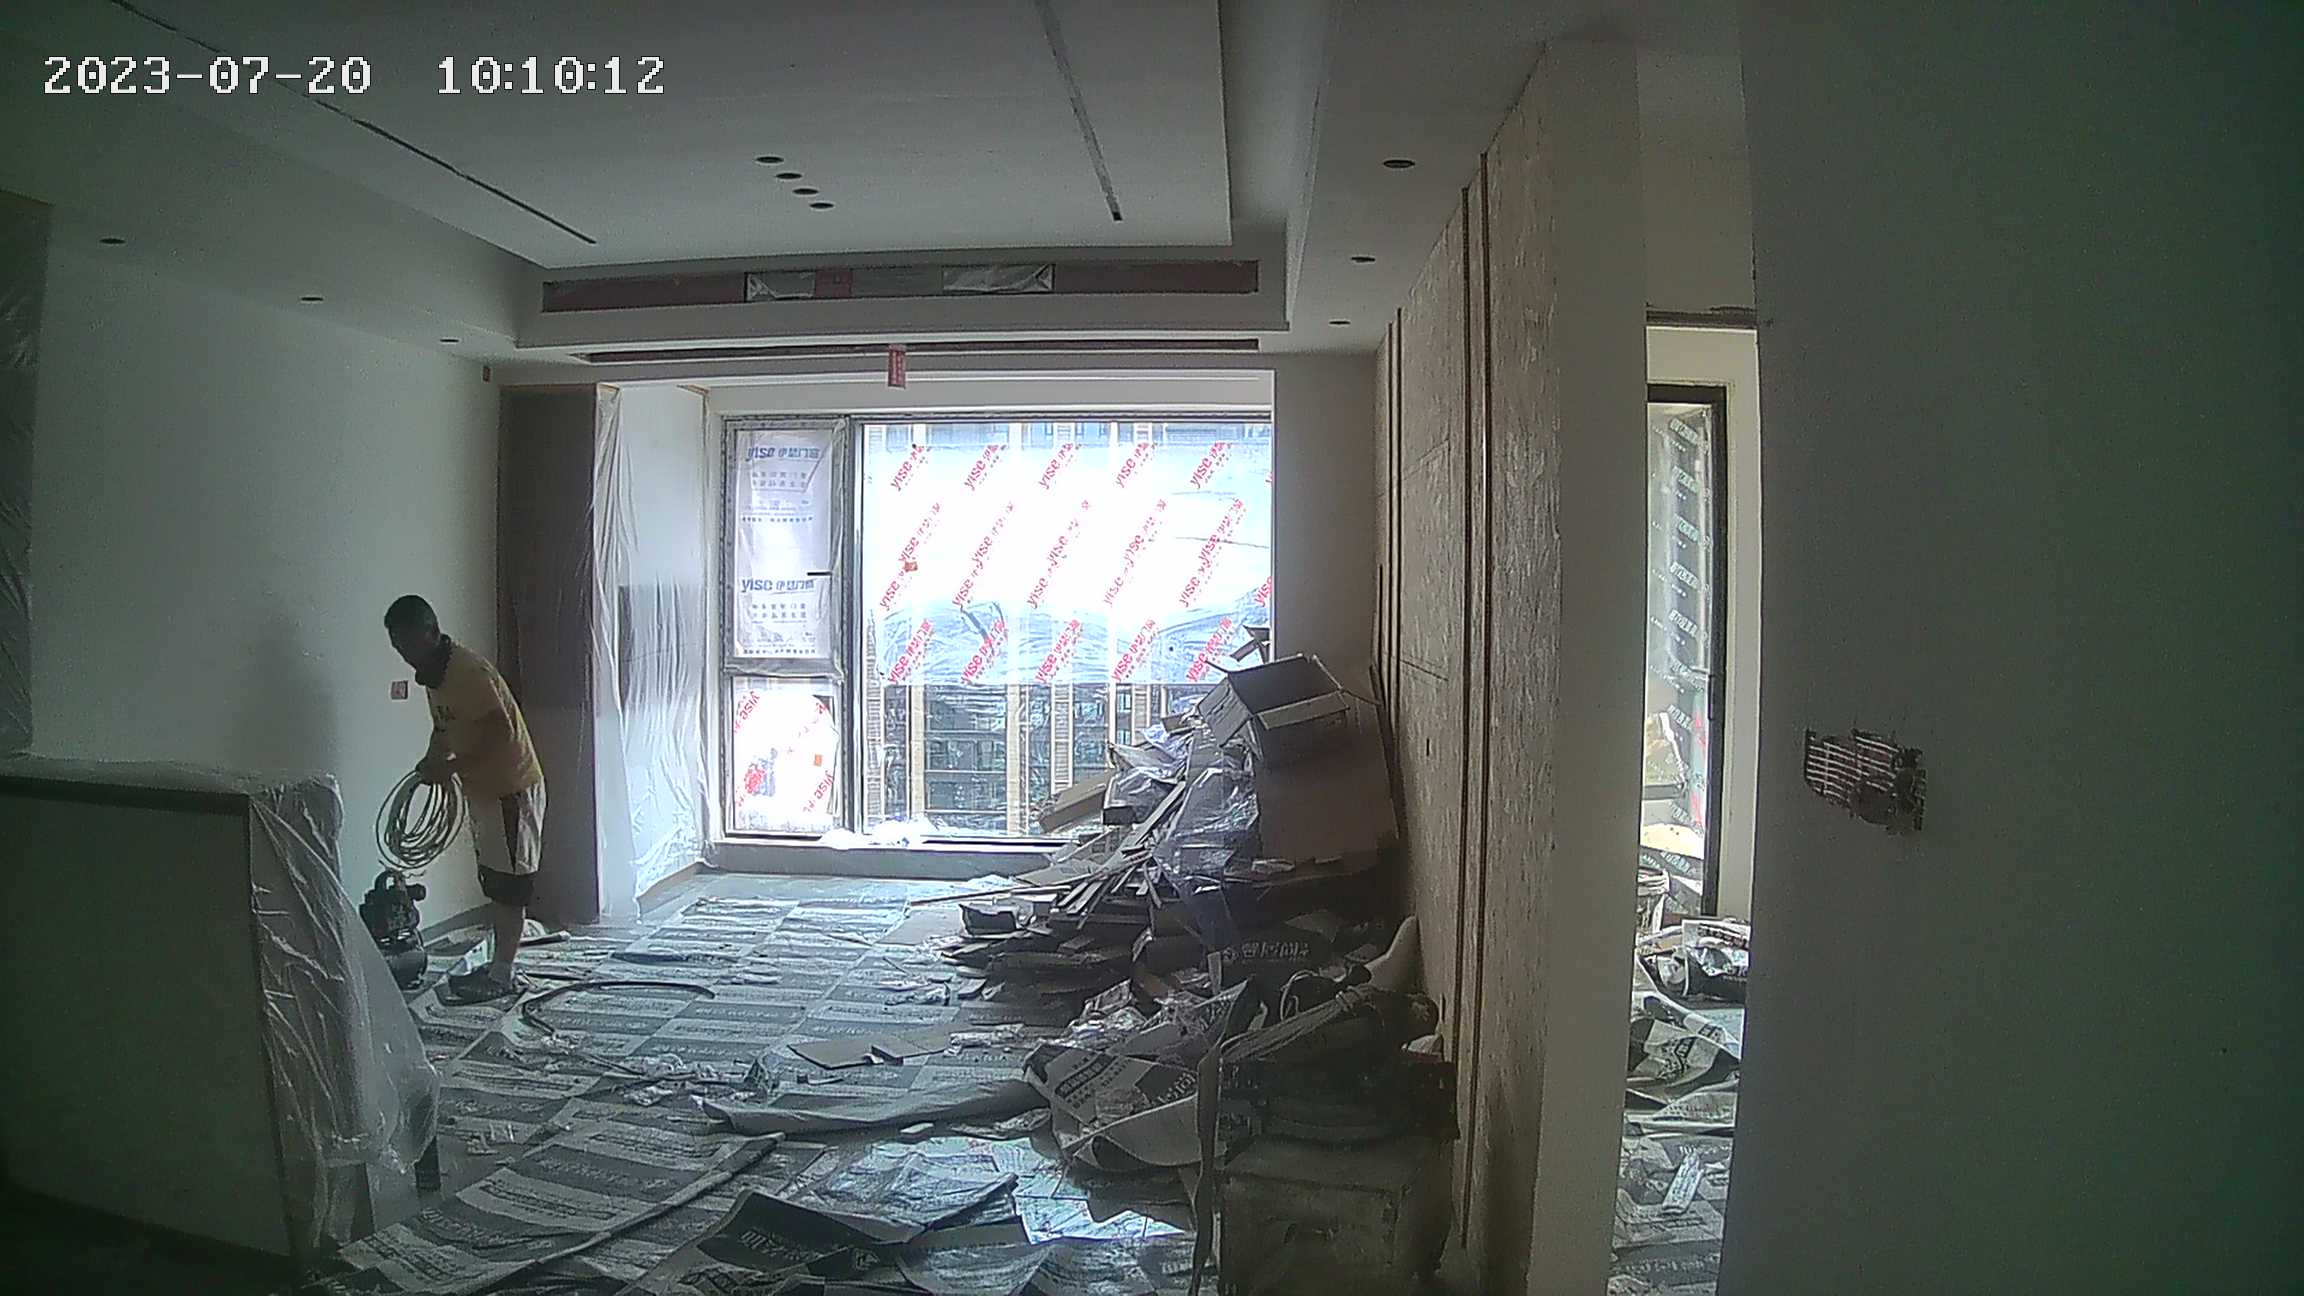people: (377, 594, 544, 1000)
window: (718, 415, 1276, 850), (1644, 403, 1715, 913)
